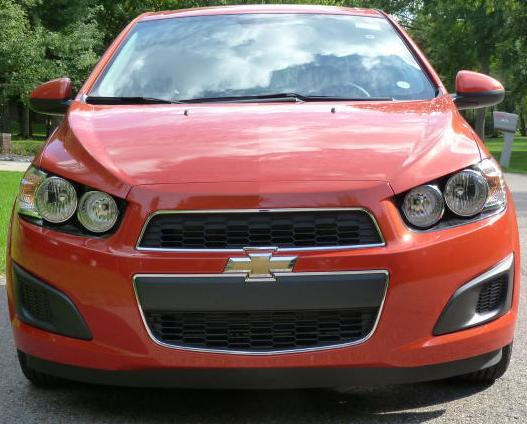front_view: (8, 141, 516, 390)
headlight: (384, 145, 509, 240)
